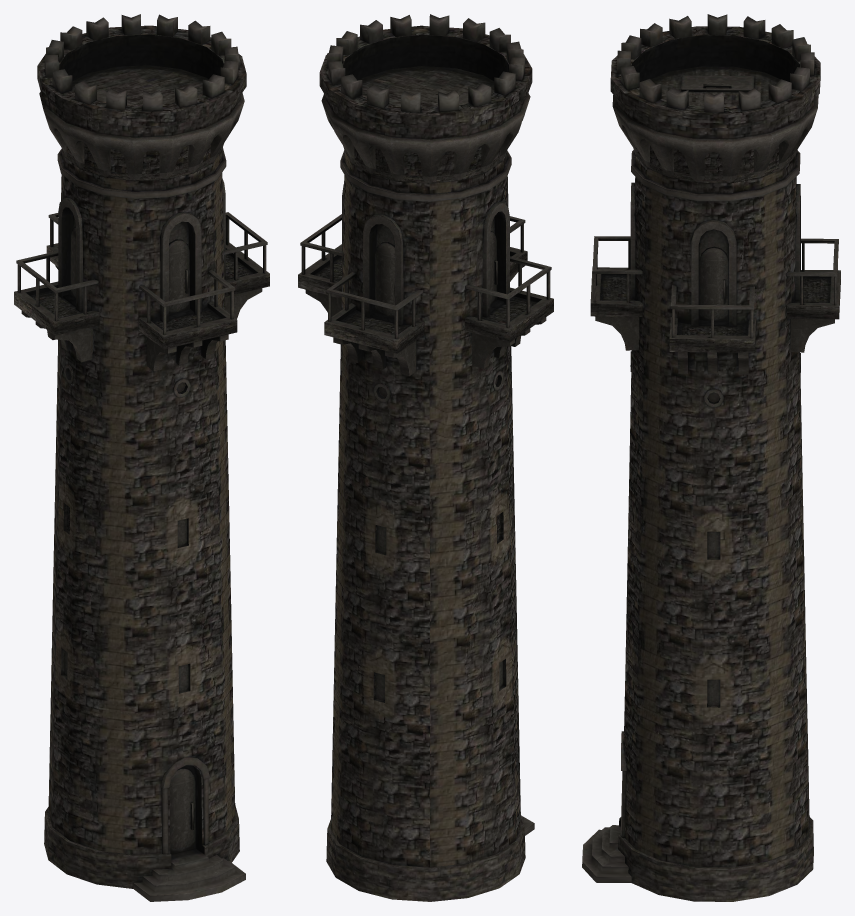
Rendered from tower.glb.
3 renders of one model, left to right at view 1: azimuth 30°, elevation 25°; view 2: azimuth 150°, elevation 25°; view 3: azimuth 270°, elevation 25°, orthographic.
Parts seen in each view (by area): view 1: KH_TowerHigh.003_0; view 2: KH_TowerHigh.003_0; view 3: KH_TowerHigh.003_0.
Part boxes in pixels (x1=…): KH_TowerHigh.003_0: x1=14, y1=14, x2=269, y2=901; KH_TowerHigh.003_0: x1=298, y1=14, x2=553, y2=901; KH_TowerHigh.003_0: x1=582, y1=14, x2=840, y2=901.
Bounding box in the file's own units: 2.51 × 8.9 × 2.6.
Materials: 1 (1 with a texture image).
